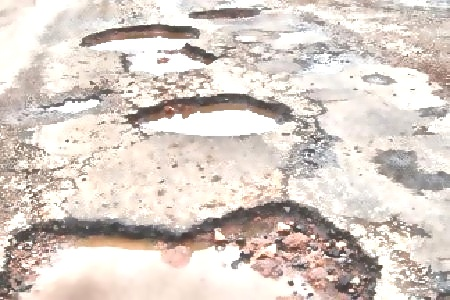pothole: (0, 197, 382, 299), (121, 90, 295, 135), (79, 22, 217, 74), (43, 95, 102, 112), (187, 7, 262, 20)
